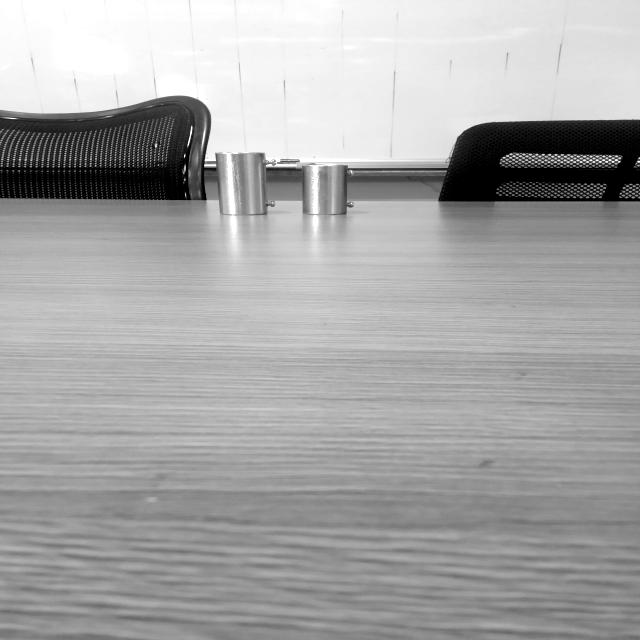Co_Lon: (215, 151, 279, 216)
Co_Nho: (302, 164, 355, 214)
